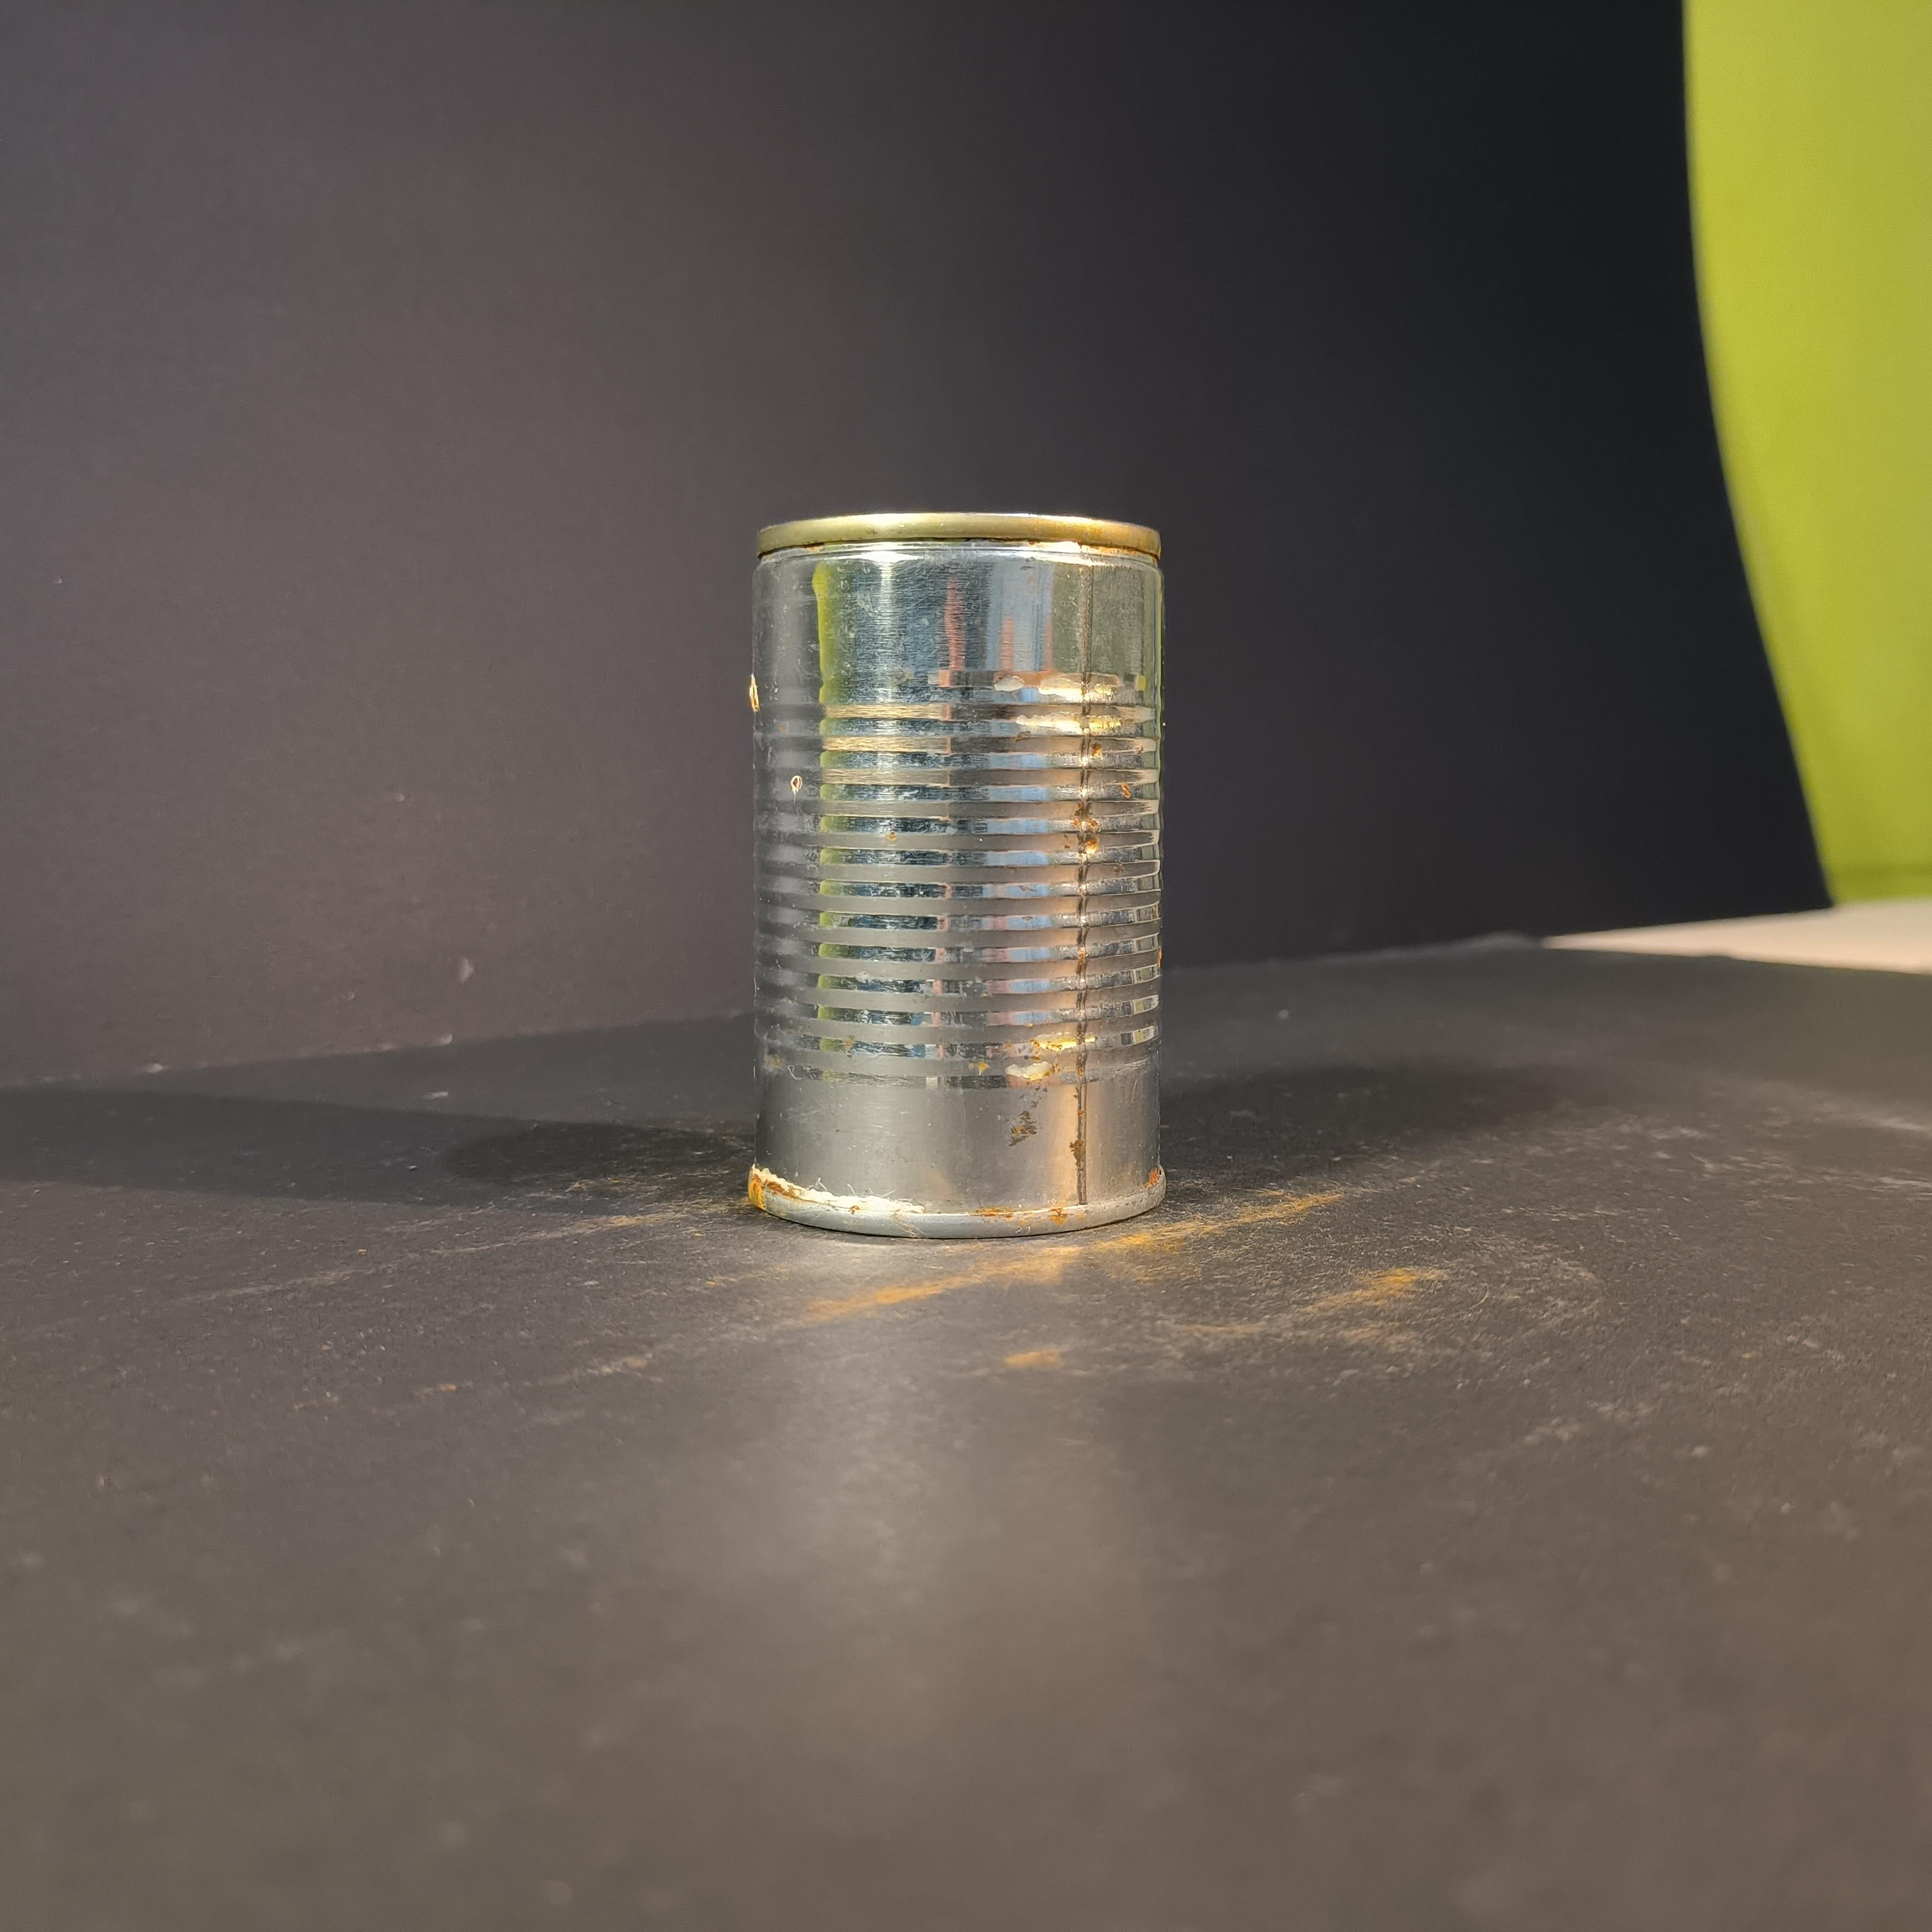Rusted: (725, 481, 1180, 1244)
